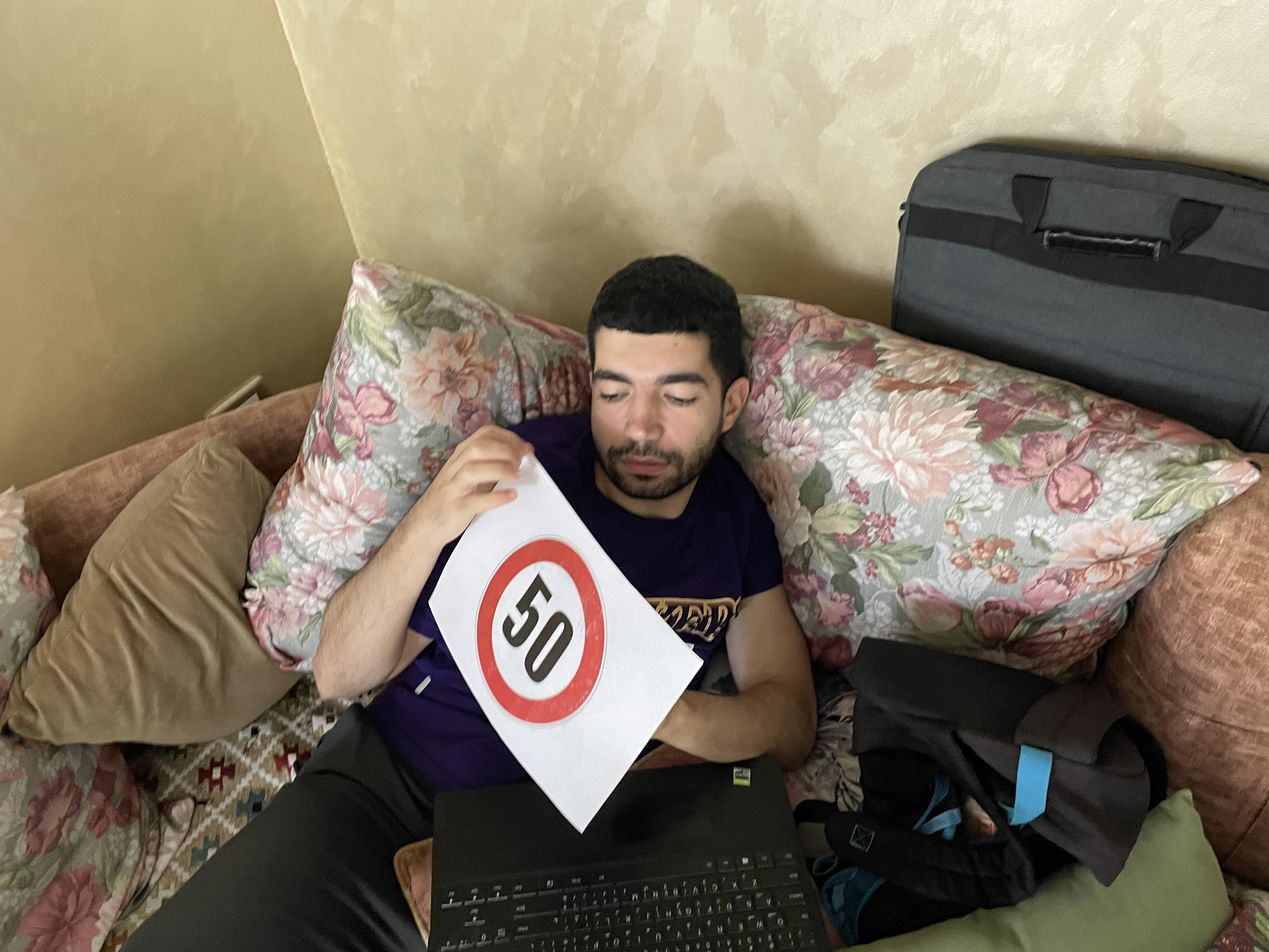50-Speed: (474, 535, 608, 721)
